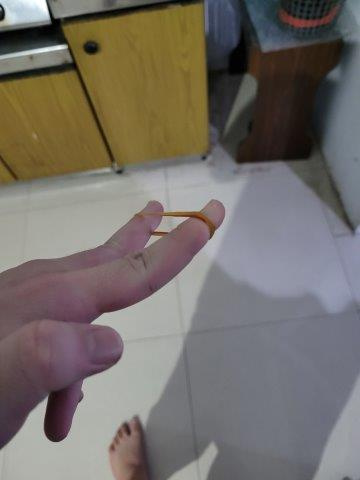karet: (136, 209, 219, 245)
